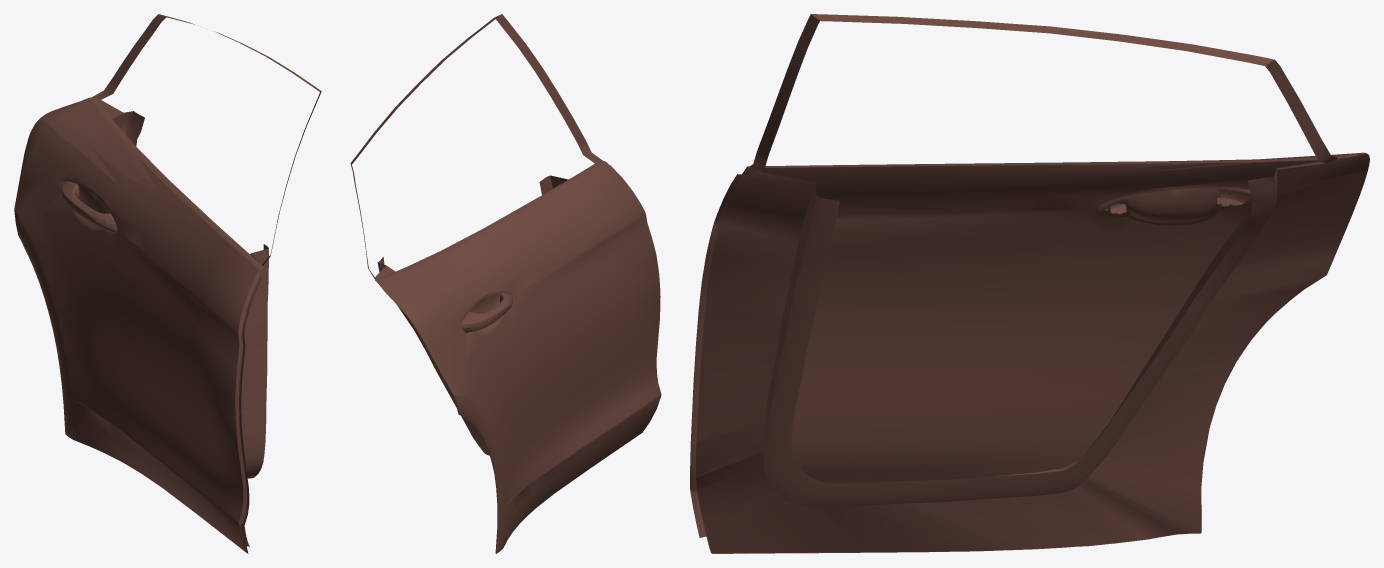
Rendered from Dreapta_Spate_Maro.fbx.
3 views of the same model, side by side, from view 1: azimuth 30°, elevation 25°; view 2: azimuth 150°, elevation 25°; view 3: azimuth 270°, elevation 25° (orthographic). The views are drawn at different scales.
Visible parts, largest first — view 1: door_RB; view 2: door_RB; view 3: door_RB.
Boxes of the visible parts, bbox=[...] form: door_RB: bbox=[14, 14, 321, 553]; door_RB: bbox=[350, 14, 661, 553]; door_RB: bbox=[690, 14, 1369, 553].
Size of the model in its own units: 669 by 1948 by 1947.
